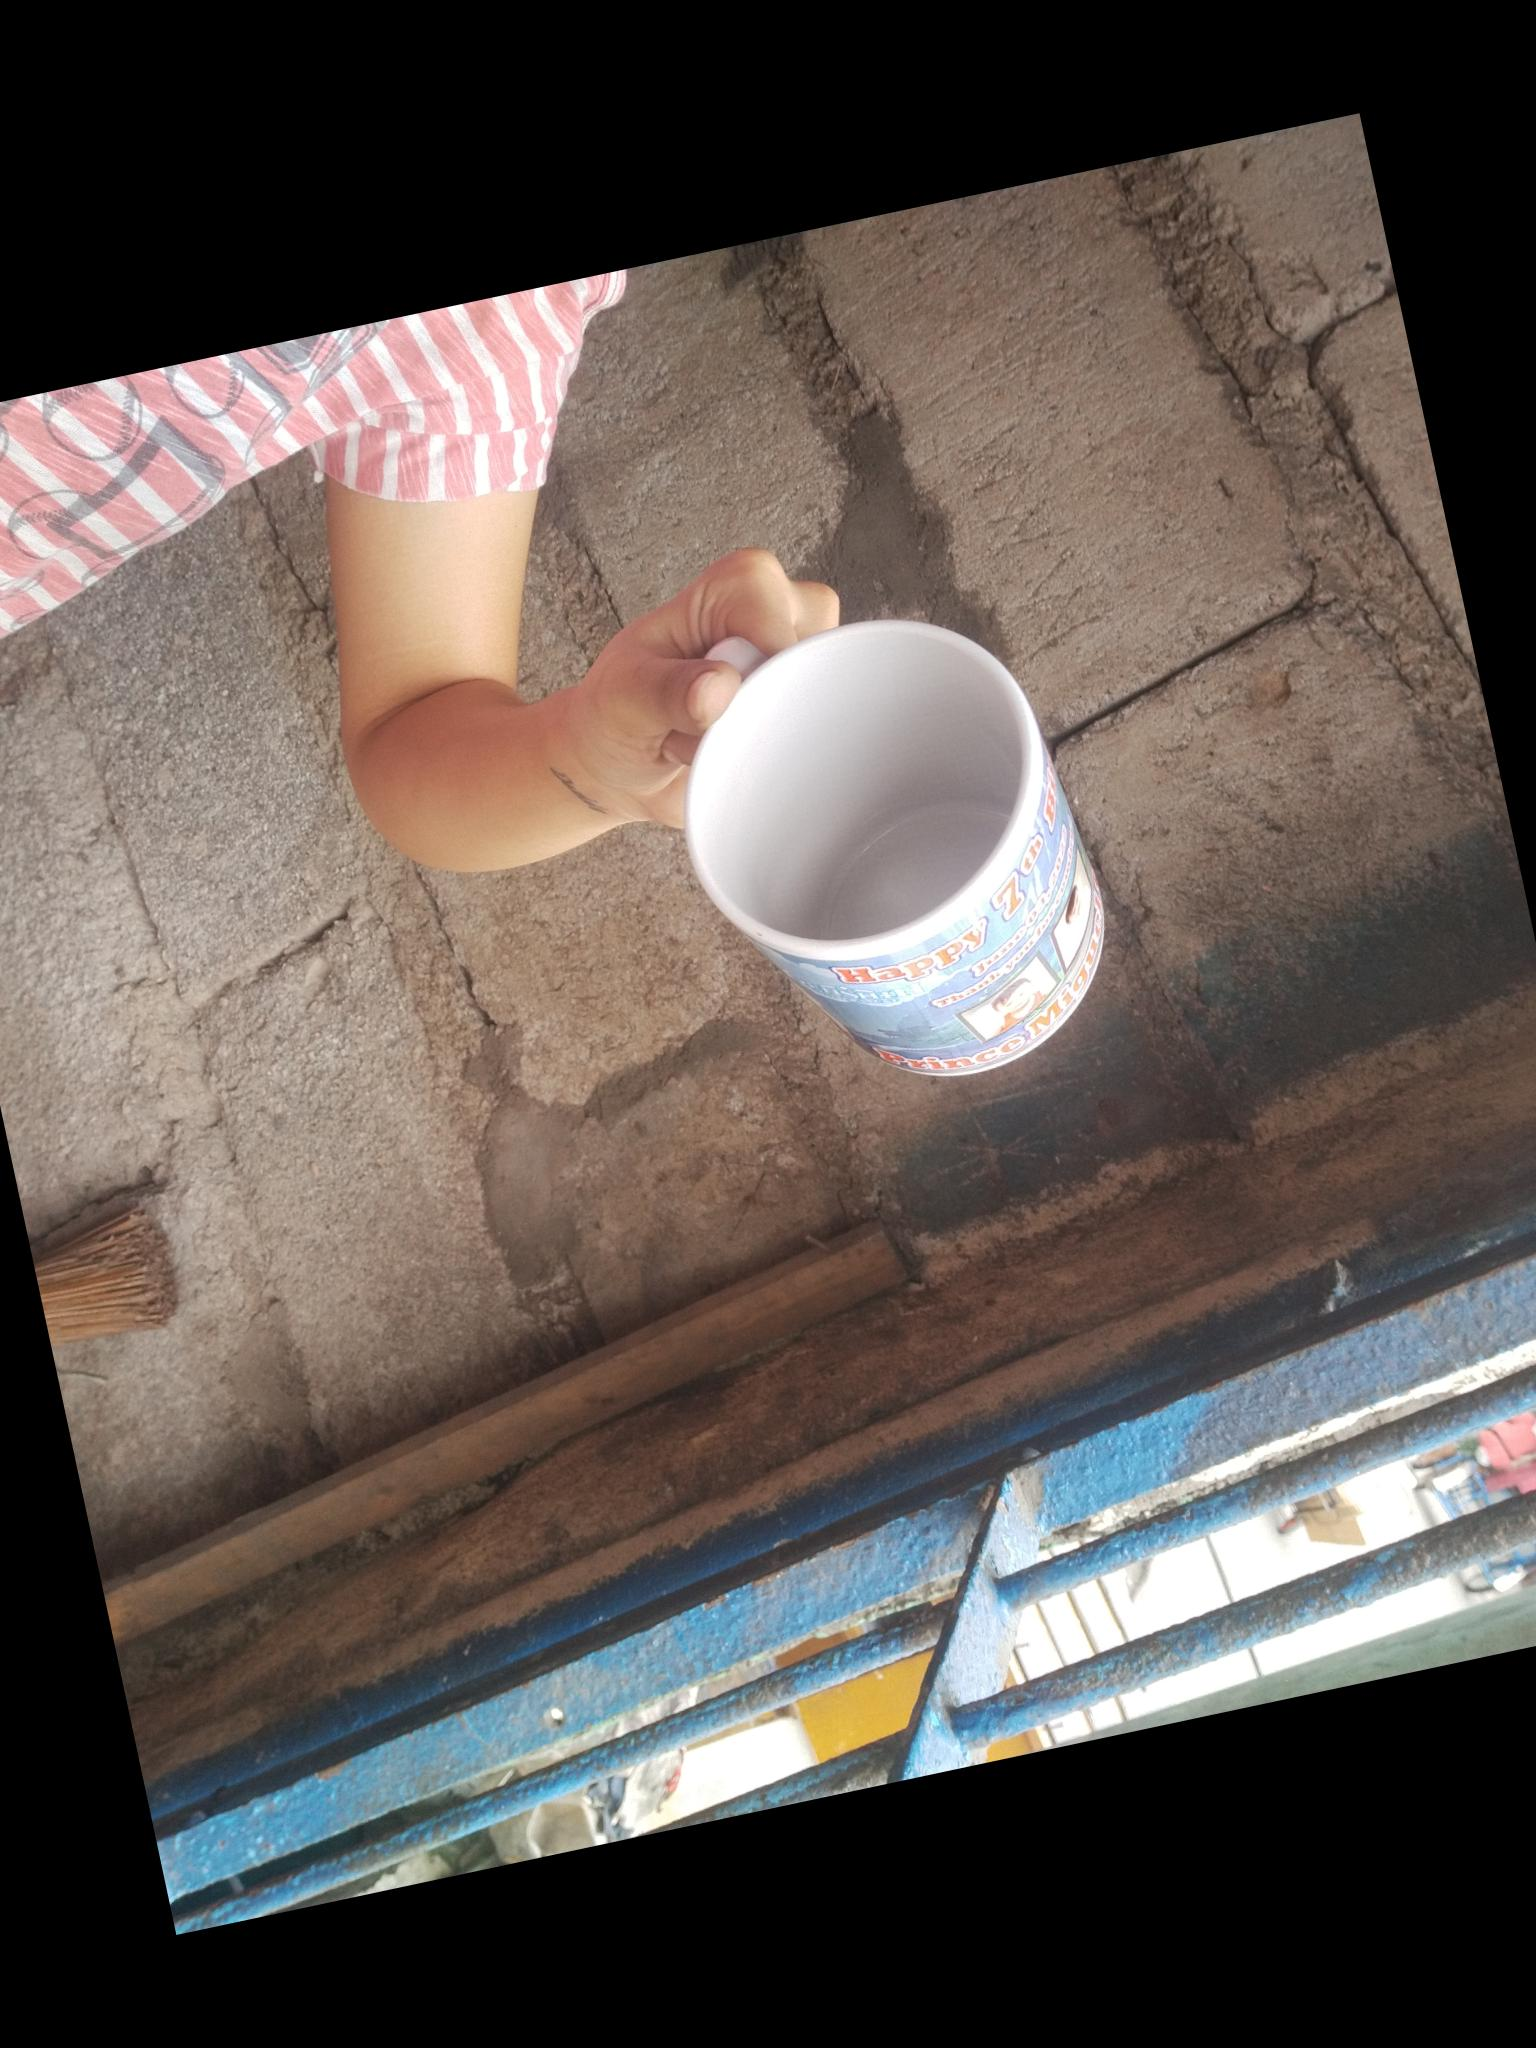Coffee Mug: (644, 574, 1128, 1121)
